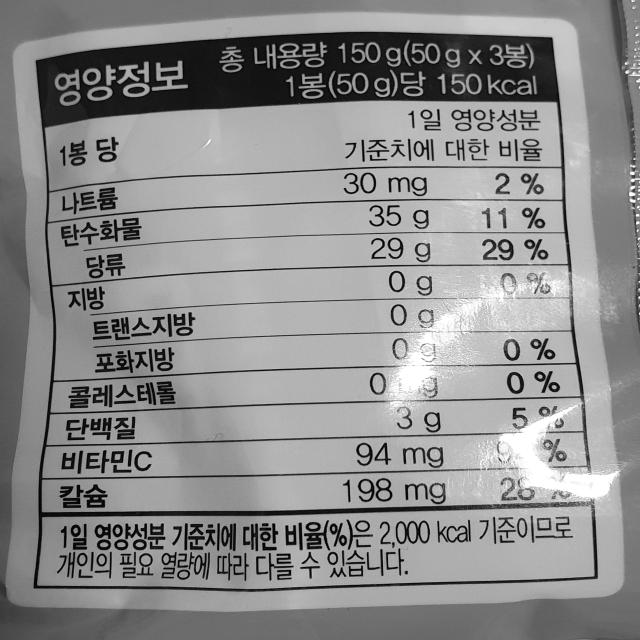Nutrition Label: (2, 16, 614, 604)
